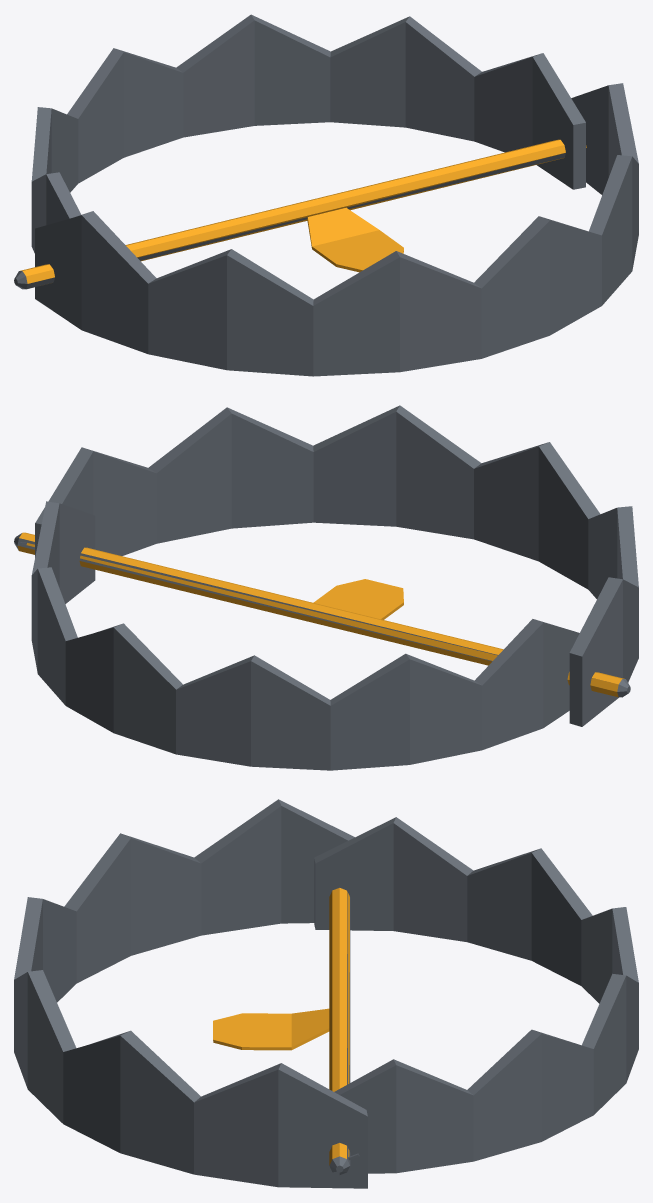
The model's file is SM_OpenBearTrap.fbx.
3 views of the same model, one above another, from view 1: azimuth 30°, elevation 25°; view 2: azimuth 150°, elevation 25°; view 3: azimuth 270°, elevation 25° (orthographic). The views are drawn at different scales.
Parts seen in each view (by area): view 1: SM_OpenBearTrap; view 2: SM_OpenBearTrap; view 3: SM_OpenBearTrap.
Part boxes in pixels (x1,y1,x2,y2): SM_OpenBearTrap: (14, 14, 638, 376); SM_OpenBearTrap: (14, 405, 638, 770); SM_OpenBearTrap: (14, 799, 638, 1188).
Size of the model in its own units: 75.52 by 13.55 by 65.19.
